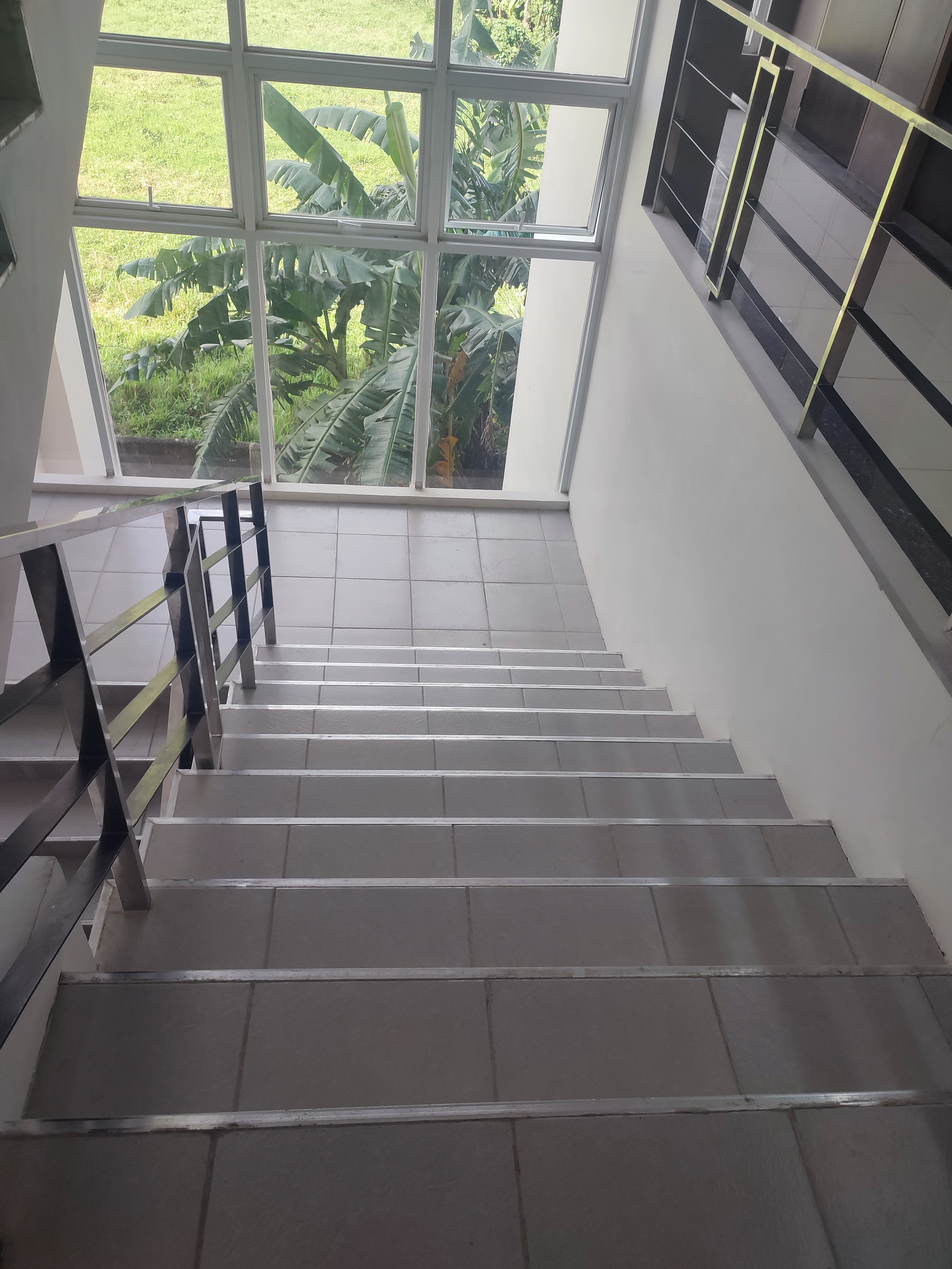Staircase: (0, 489, 952, 1269)
